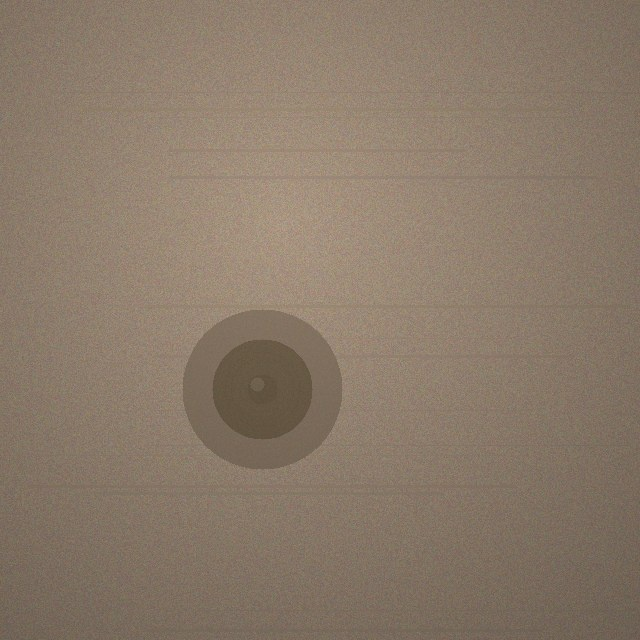good: (182, 309, 342, 469)
